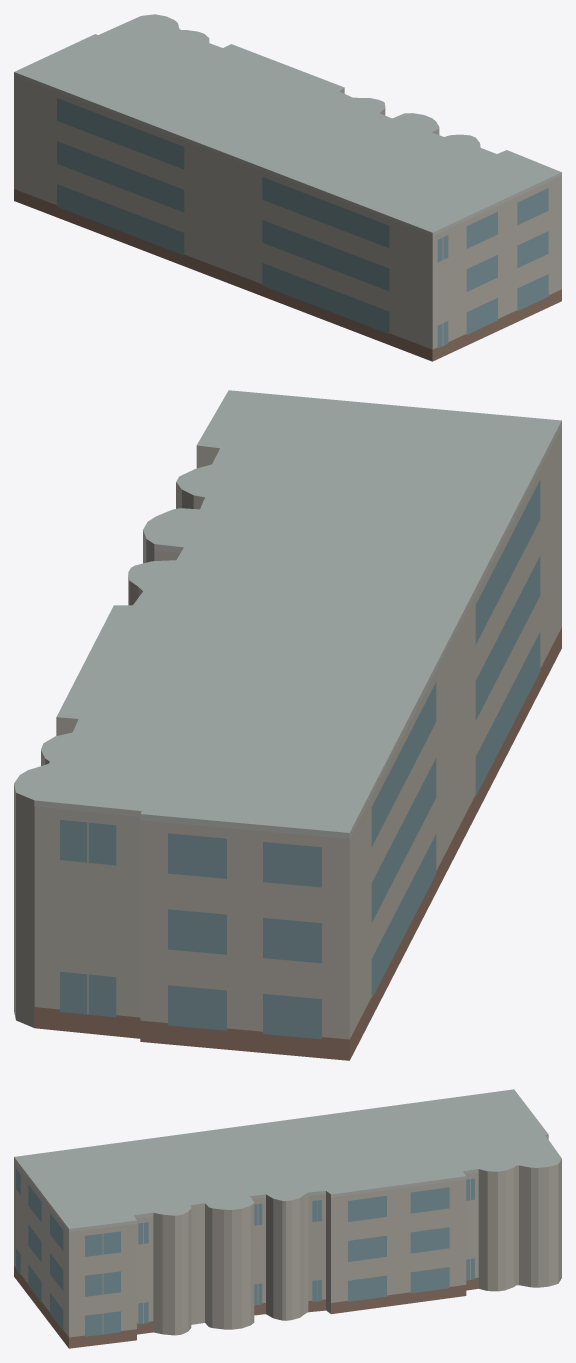
File: survey-upis-32619139.glb
3 views of the same model, one above another, from view 1: azimuth 30°, elevation 25°; view 2: azimuth 150°, elevation 25°; view 3: azimuth 270°, elevation 25° (orthographic). The views are drawn at different scales.
Parts seen in each view (by area): view 1: survey-upis-32619139.tmp; view 2: survey-upis-32619139.tmp; view 3: survey-upis-32619139.tmp.
Boxes of the visible parts, box(x1,y1,x2,y2) form: survey-upis-32619139.tmp: box(14, 14, 561, 361); survey-upis-32619139.tmp: box(14, 390, 561, 1060); survey-upis-32619139.tmp: box(14, 1089, 561, 1348).
Size of the model in its own units: 22.89 by 9.15 by 37.95.
